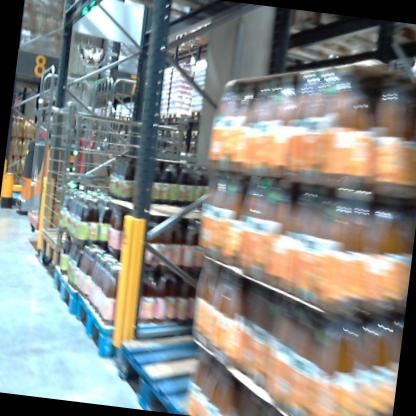pallet: (114, 316, 296, 416), (70, 286, 218, 374), (83, 0, 224, 32), (41, 263, 104, 334), (36, 225, 87, 270), (170, 27, 223, 55), (164, 106, 190, 126), (187, 103, 205, 123), (154, 109, 169, 121), (184, 130, 196, 140)
pallet_truck: (6, 48, 129, 227)
